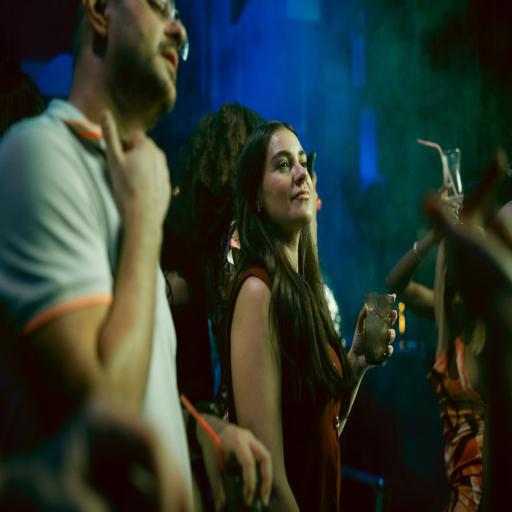face: (106, 0, 186, 118), (257, 129, 313, 241)
